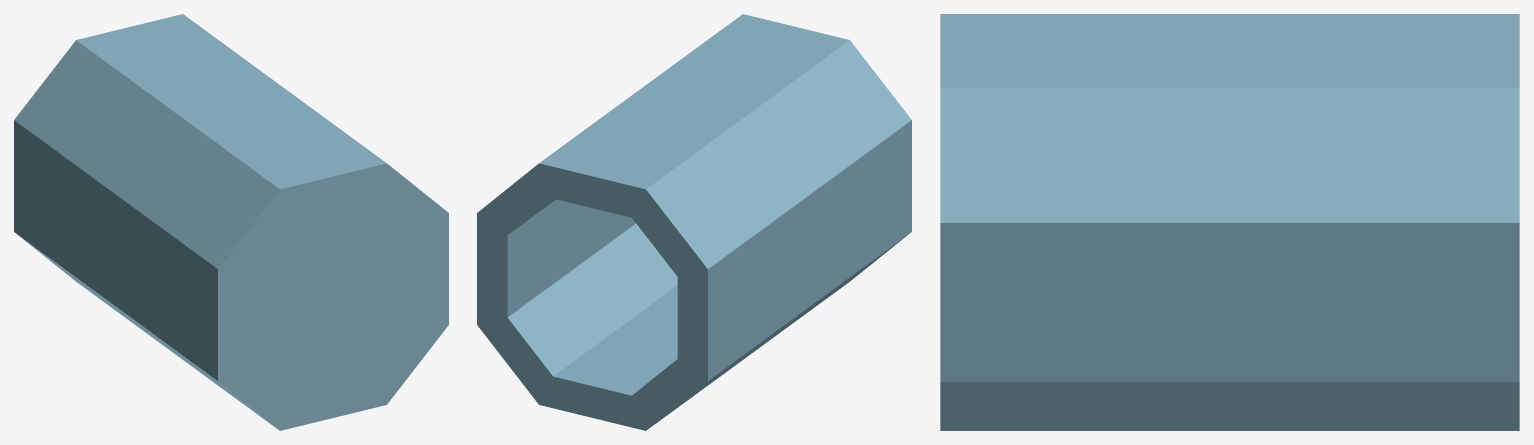
File: Cup 01.FBX
The picture shows the model from 3 angles, left to right: view 1: azimuth 30°, elevation 25°; view 2: azimuth 150°, elevation 25°; view 3: azimuth 270°, elevation 25°; orthographic projection. The views are drawn at different scales.
Parts seen in each view (by area): view 1: Cup 01; view 2: Cup 01; view 3: Cup 01.
Boxes of the visible parts, bbox=[...] form: Cup 01: bbox=[14, 14, 448, 430]; Cup 01: bbox=[477, 14, 911, 430]; Cup 01: bbox=[940, 14, 1519, 430].
Size of the model in its own units: 12.12 by 12.12 by 18.55.
Materials: 1 (1 with a texture image).
